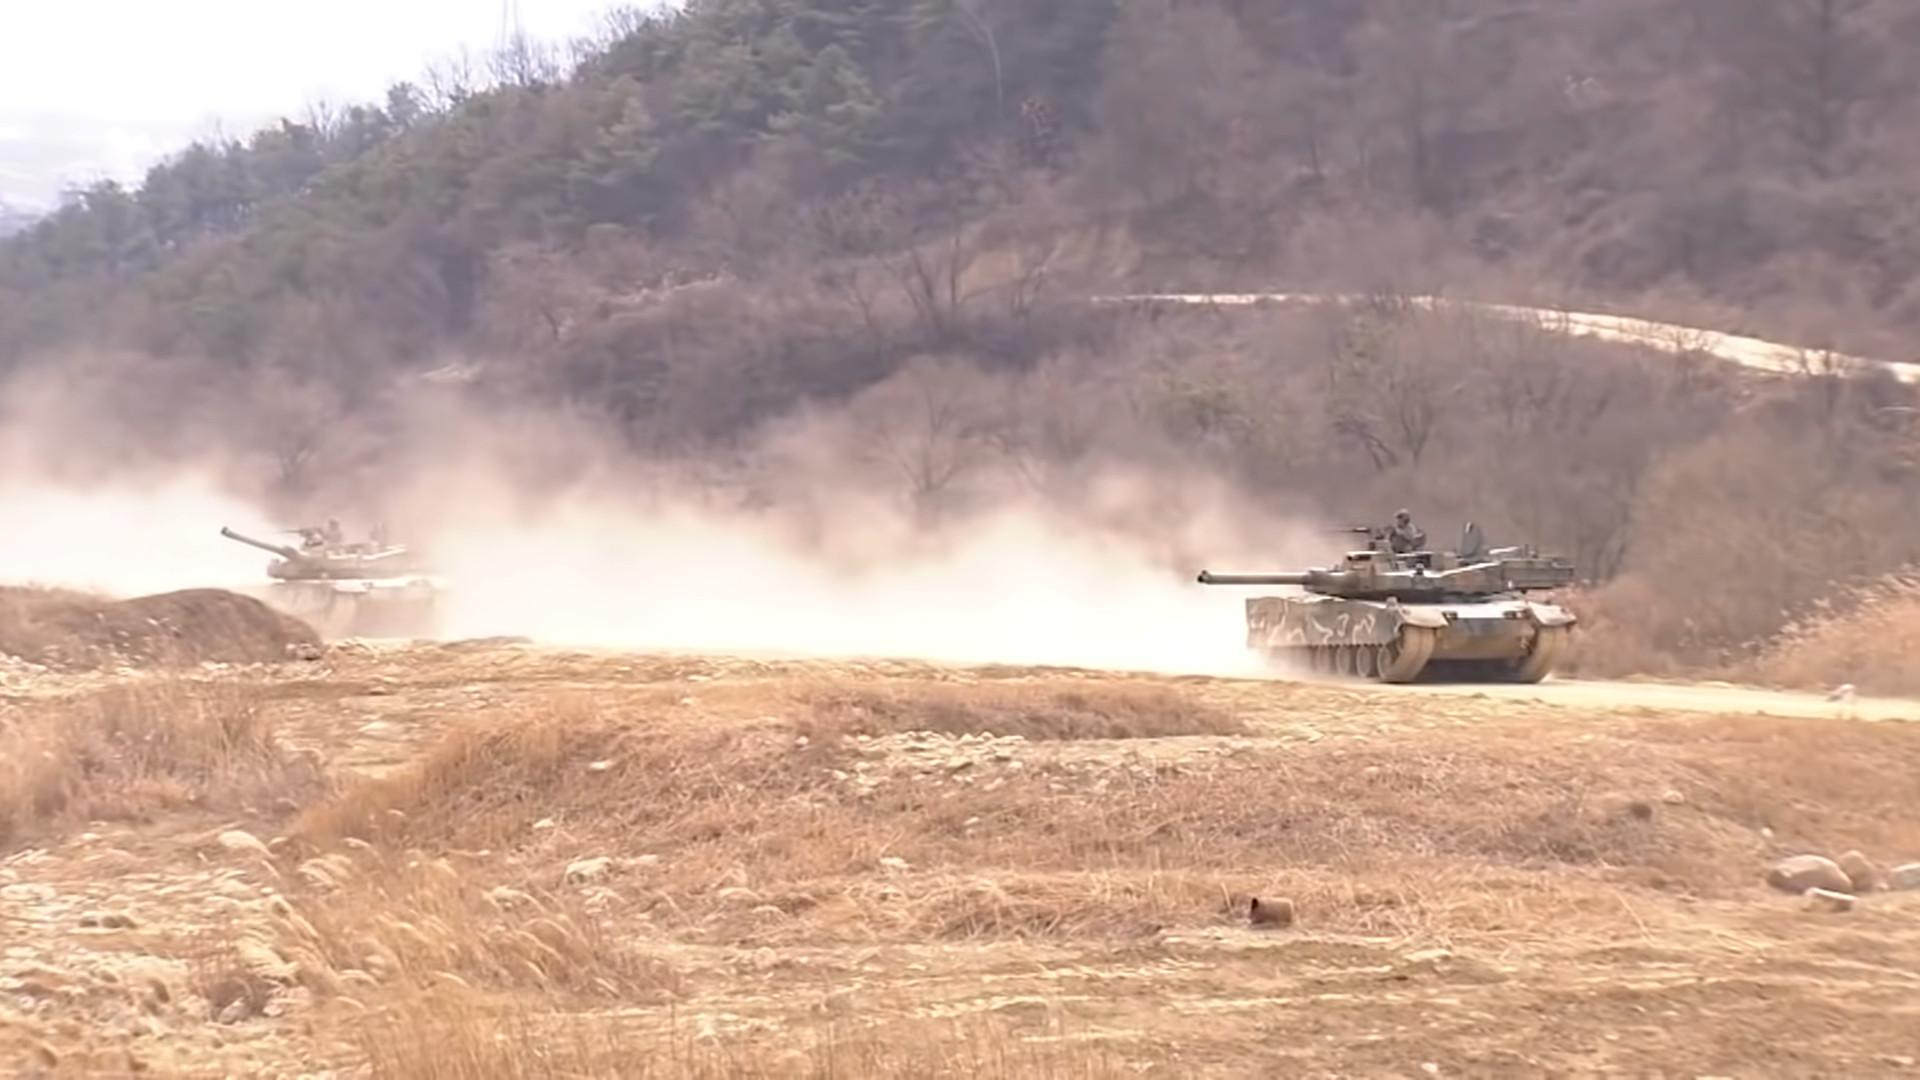tank: (1196, 520, 1577, 684), (220, 520, 452, 640)
